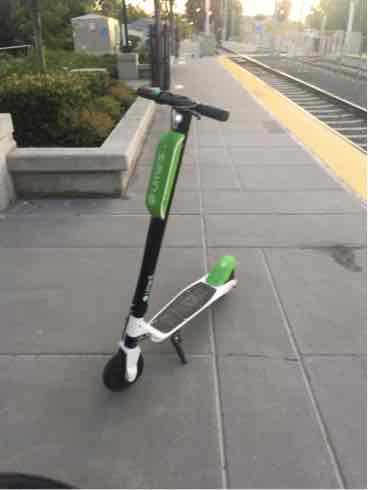scooter: (108, 85, 259, 400)
